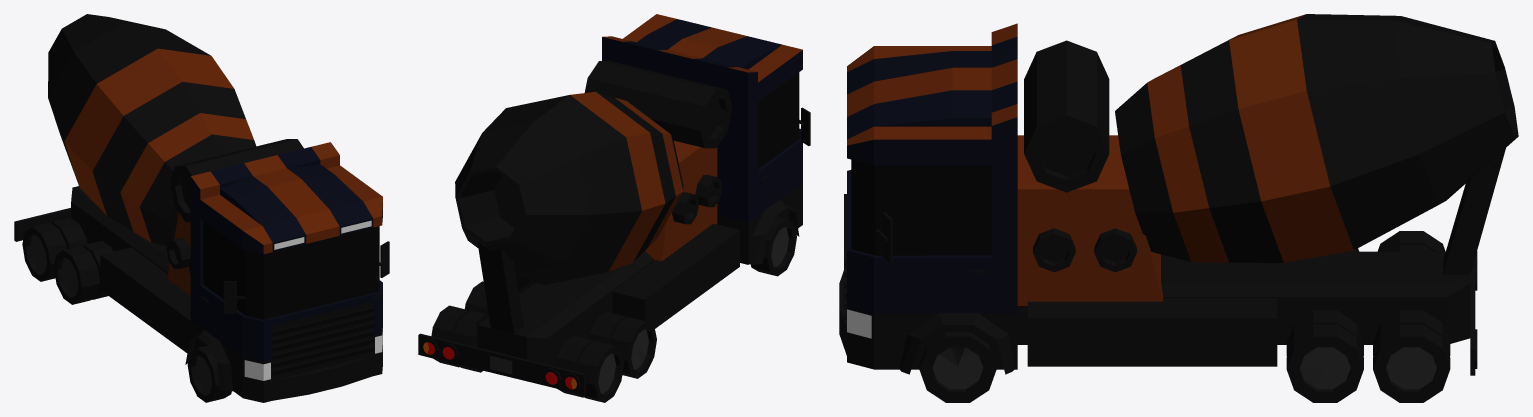
File: SM_truckmixer.FBX
3 renders of one model, left to right at view 1: azimuth 30°, elevation 25°; view 2: azimuth 150°, elevation 25°; view 3: azimuth 270°, elevation 25°, orthographic. The views are drawn at different scales.
Parts seen in each view (by area): view 1: truck_mixer; view 2: truck_mixer; view 3: truck_mixer.
Boxes of the visible parts, x1=… form: truck_mixer: x1=14, y1=14, x2=389, y2=402; truck_mixer: x1=418, y1=14, x2=810, y2=402; truck_mixer: x1=839, y1=14, x2=1518, y2=402.
Size of the model in its own units: 272 by 379 by 705.
